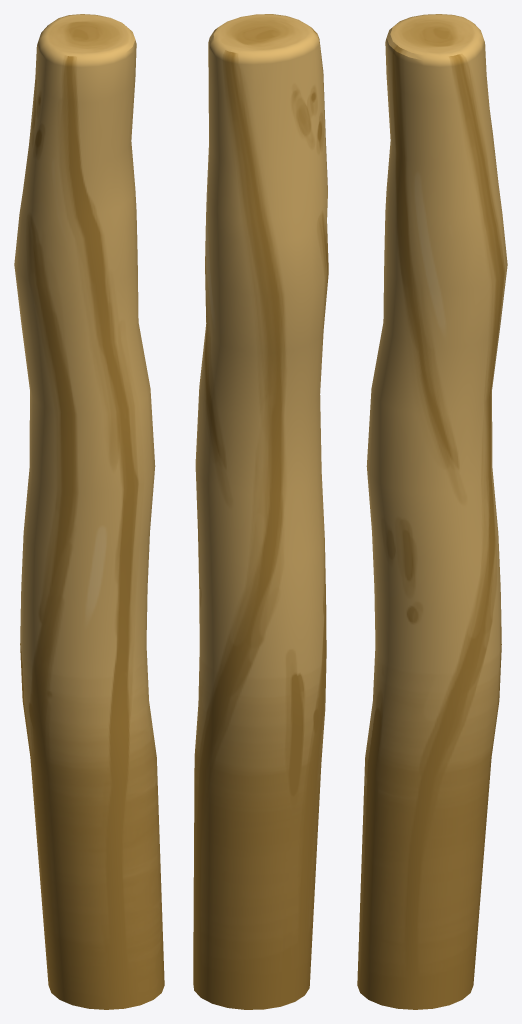
Rendered from Fence1End.fbx.
3 views of the same model, side by side, from view 1: azimuth 90°, elevation 25°; view 2: azimuth 210°, elevation 25°; view 3: azimuth 270°, elevation 25° (orthographic).
Parts seen in each view (by area): view 1: pCylinder13; view 2: pCylinder13; view 3: pCylinder13.
Part boxes in pixels (bbox=[...]): pCylinder13: bbox=[14, 14, 164, 1009]; pCylinder13: bbox=[193, 14, 328, 1009]; pCylinder13: bbox=[357, 14, 507, 1009].
Bounding box in the file's own units: 0.1654 × 1.37 × 0.1965.
